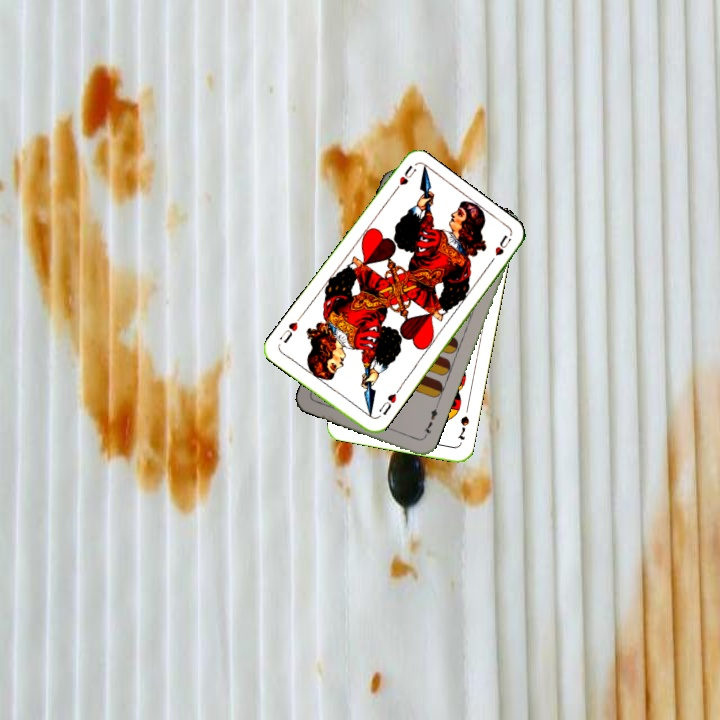E7: (419, 402, 441, 441)
HU: (388, 161, 419, 197), (375, 386, 402, 418)
S7: (454, 412, 472, 443)
